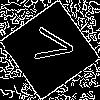V: (25, 25, 76, 66)
